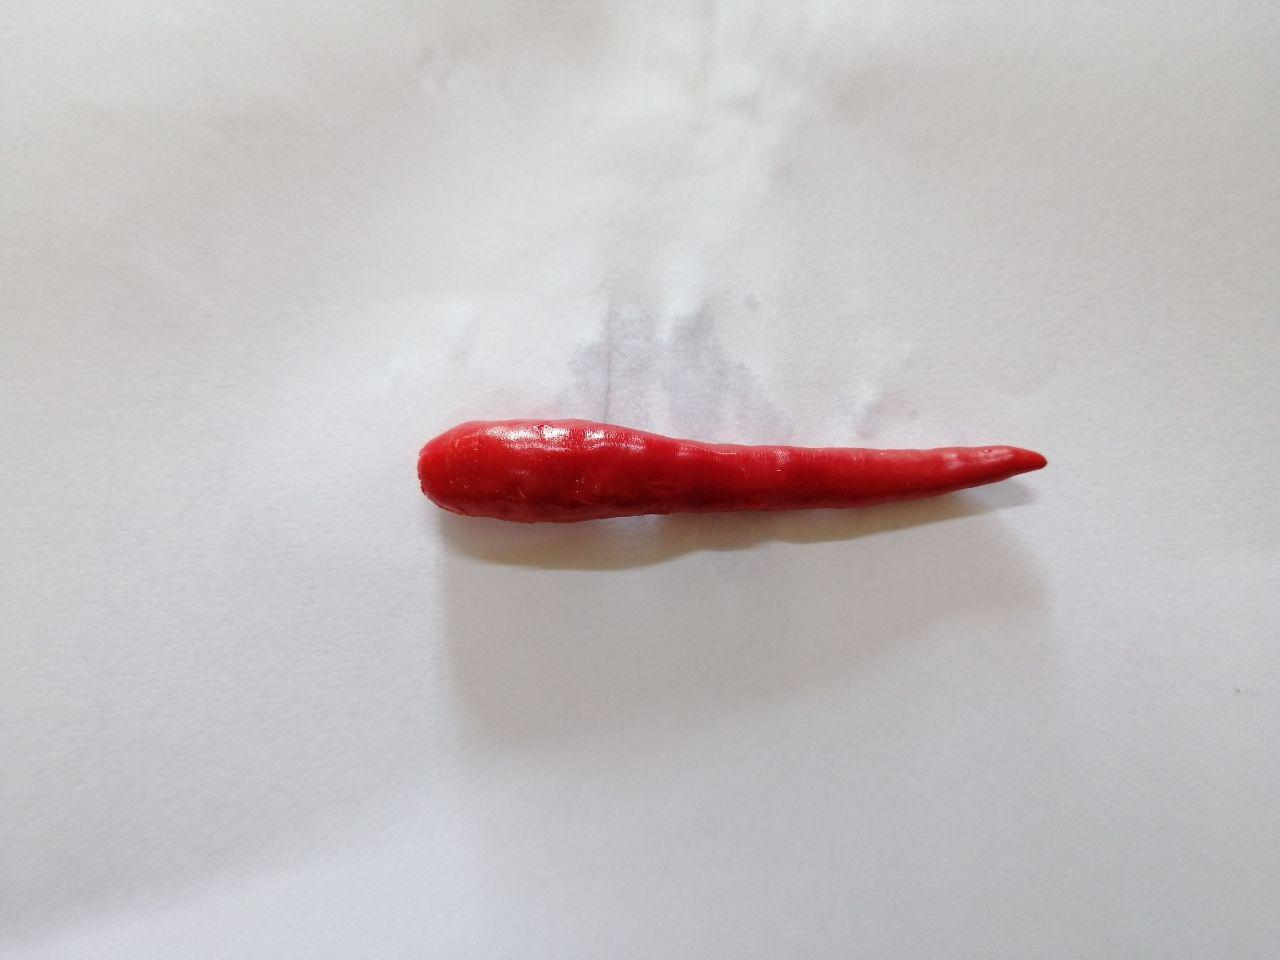lada merah: (400, 394, 1066, 556)
